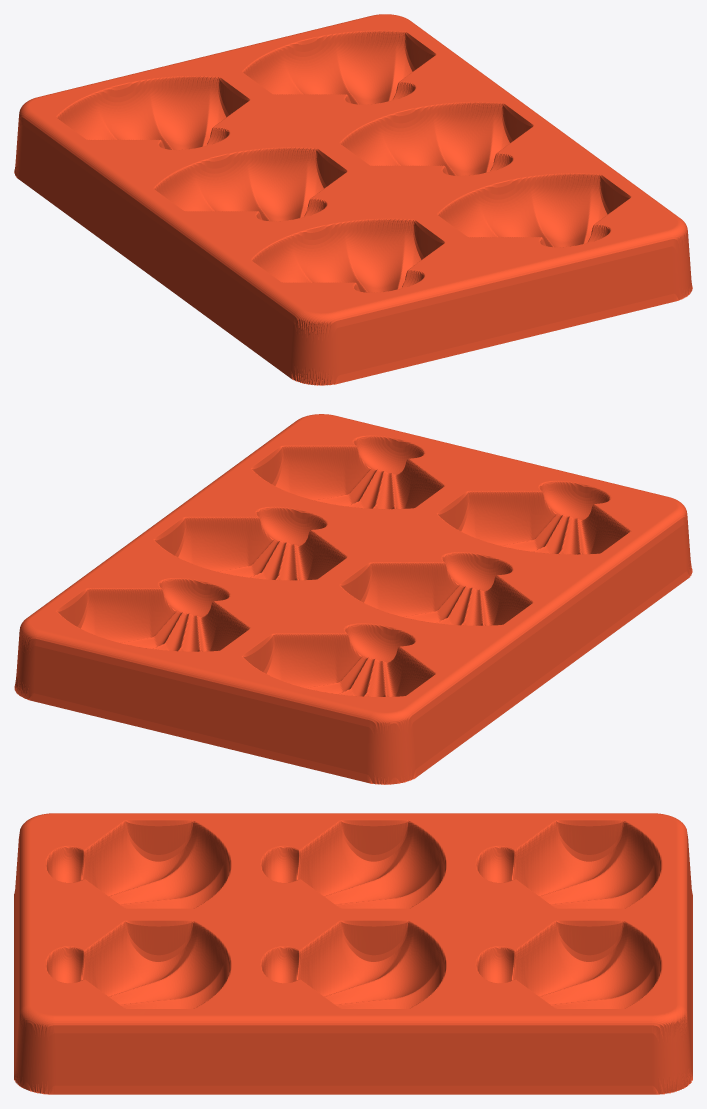
Rendered from mold.glb.
3 views of the same model, one above another, from view 1: azimuth 30°, elevation 25°; view 2: azimuth 150°, elevation 25°; view 3: azimuth 270°, elevation 25° (orthographic). The views are drawn at different scales.
Visible parts, largest first — view 1: geometry_0; view 2: geometry_0; view 3: geometry_0.
Part boxes in pixels (x1=…): geometry_0: x1=14, y1=14, x2=692, y2=385; geometry_0: x1=14, y1=414, x2=692, y2=784; geometry_0: x1=14, y1=813, x2=692, y2=1094.
Size of the model in its own units: 0.1127 by 0.0178 by 0.1507.
